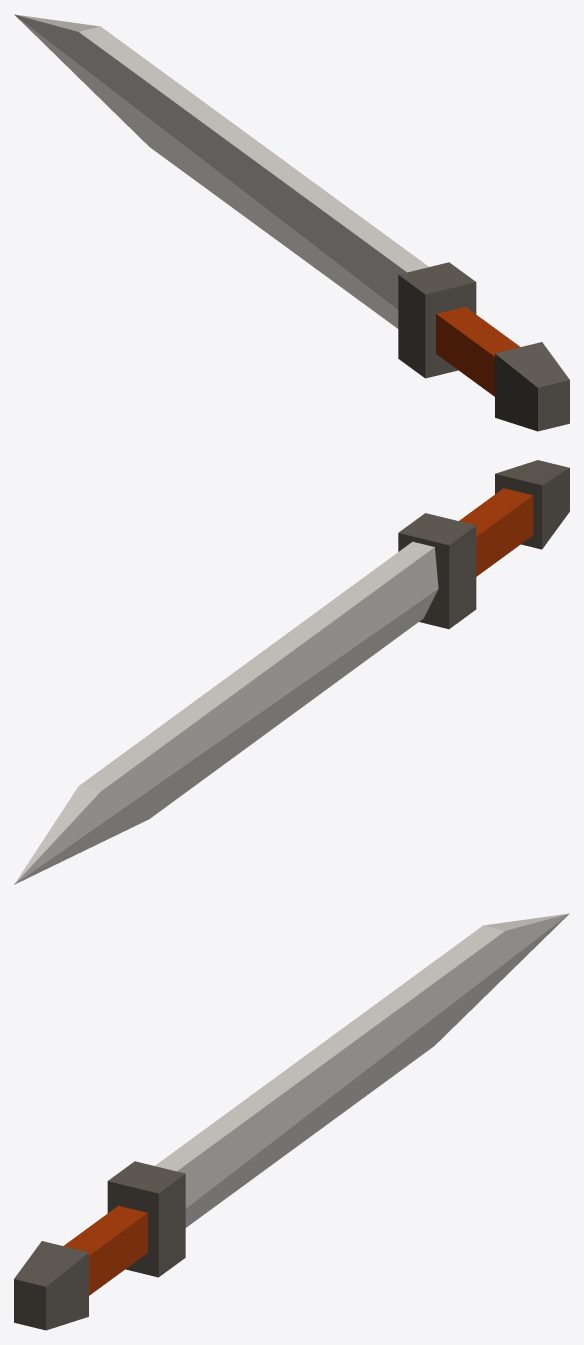
File: Sword.fbx
3 views of the same model, one above another, from view 1: azimuth 30°, elevation 25°; view 2: azimuth 150°, elevation 25°; view 3: azimuth 330°, elevation 25° (orthographic).
Parts seen in each view (by area): view 1: Sword; view 2: Sword; view 3: Sword.
Boxes of the visible parts, <box> form: Sword: <box>14,14,569,431</box>; Sword: <box>14,460,569,884</box>; Sword: <box>14,913,569,1330</box>.
Size of the model in its own units: 3.58 by 5.65 by 65.78.
